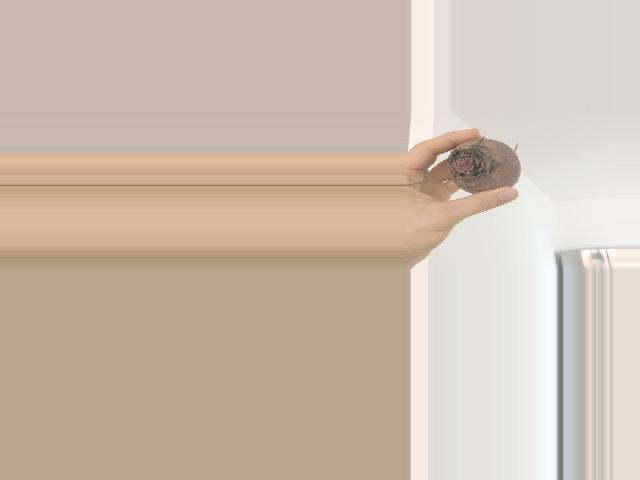beet: (405, 136, 521, 195)
